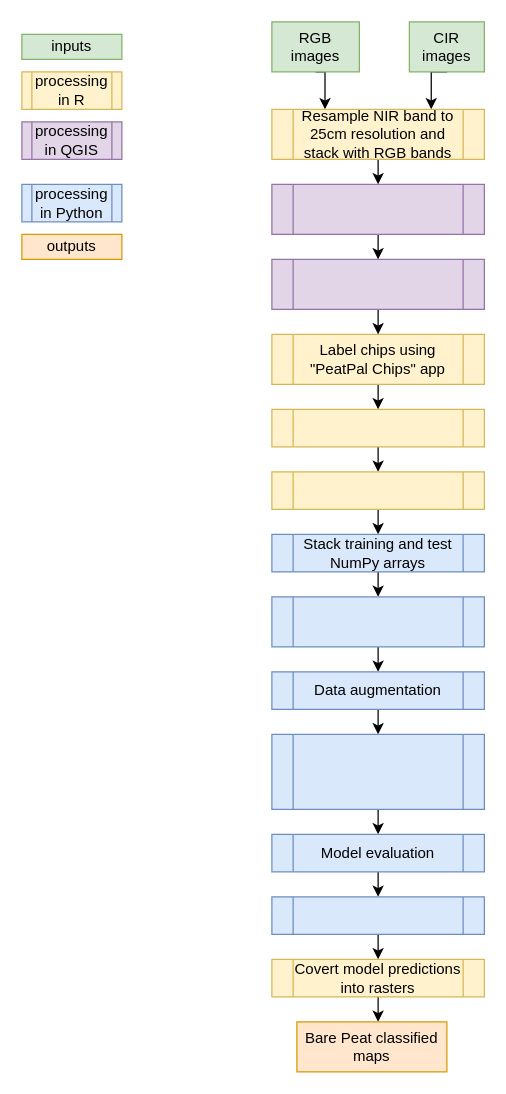
This 506x1094 diagram has some shape labels left out. Here are the shapes that lost their labels. From the top down, the centre of each, then its label:
At (x=377, y=208): "Select representative training tiles".
At (x=377, y=283): "Chip raster into 256 x 256 pixels (gdal_retile)".
At (x=377, y=427): "Stack with label and convert to R array".
At (x=377, y=490): "Convert to NumPy arrays".
At (x=377, y=621): "Pre-processing steps - shuffle order, split out label".
At (x=377, y=771): "Build model infrastructure and fit the model with the training data".
At (x=377, y=915): "Predict model over unseen data".
